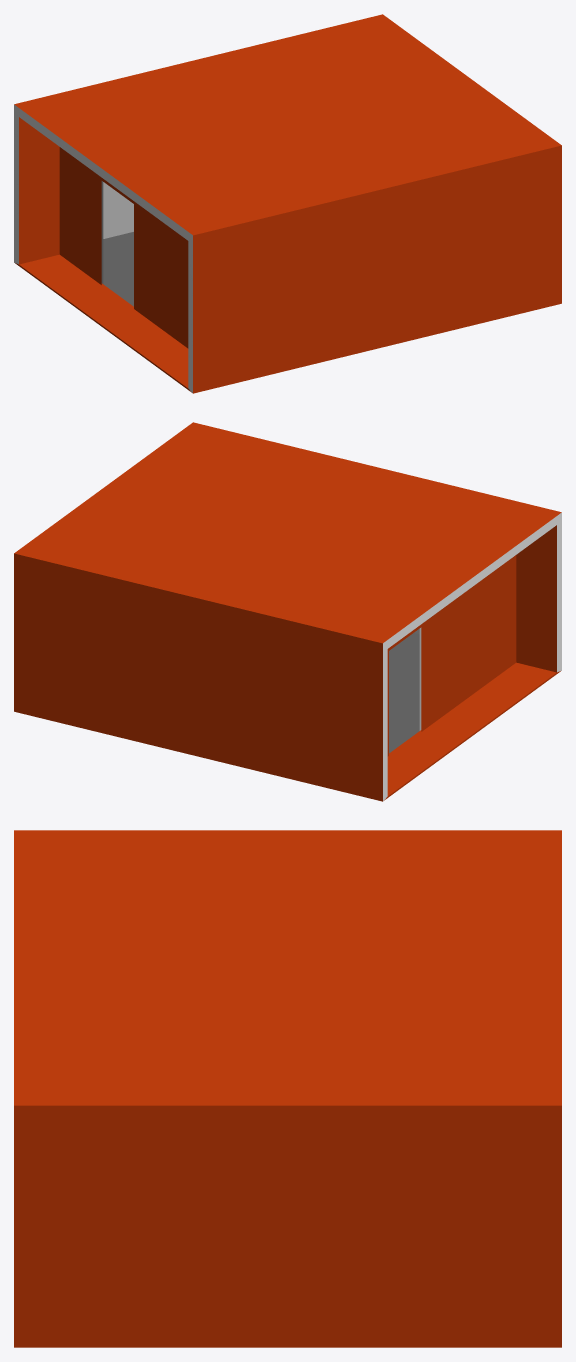
Rendered from Middle_Room_cnp.fbx.
The picture shows the model from 3 angles, top to bottom: view 1: azimuth 30°, elevation 25°; view 2: azimuth 150°, elevation 25°; view 3: azimuth 270°, elevation 25°; orthographic projection. The views are drawn at different scales.
Visible parts, largest first — view 1: CNP_Middle_Room; view 2: CNP_Middle_Room; view 3: CNP_Middle_Room.
Part boxes in pixels (x1=…): CNP_Middle_Room: x1=14, y1=14, x2=561, y2=393; CNP_Middle_Room: x1=14, y1=422, x2=561, y2=801; CNP_Middle_Room: x1=14, y1=830, x2=561, y2=1347.
Size of the model in its own units: 8753 by 3588 by 7365.
